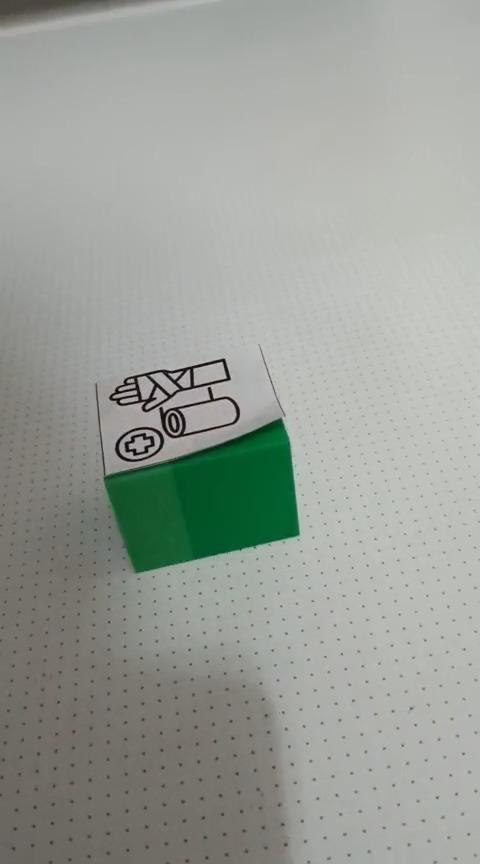Bandages: (94, 342, 300, 573)
